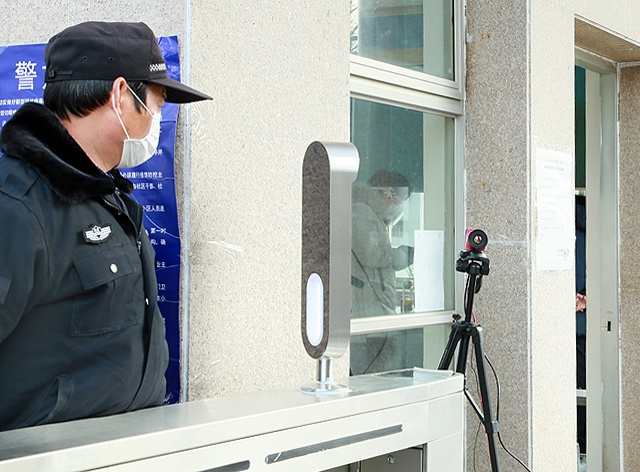correctlyWear: (106, 58, 165, 171)
